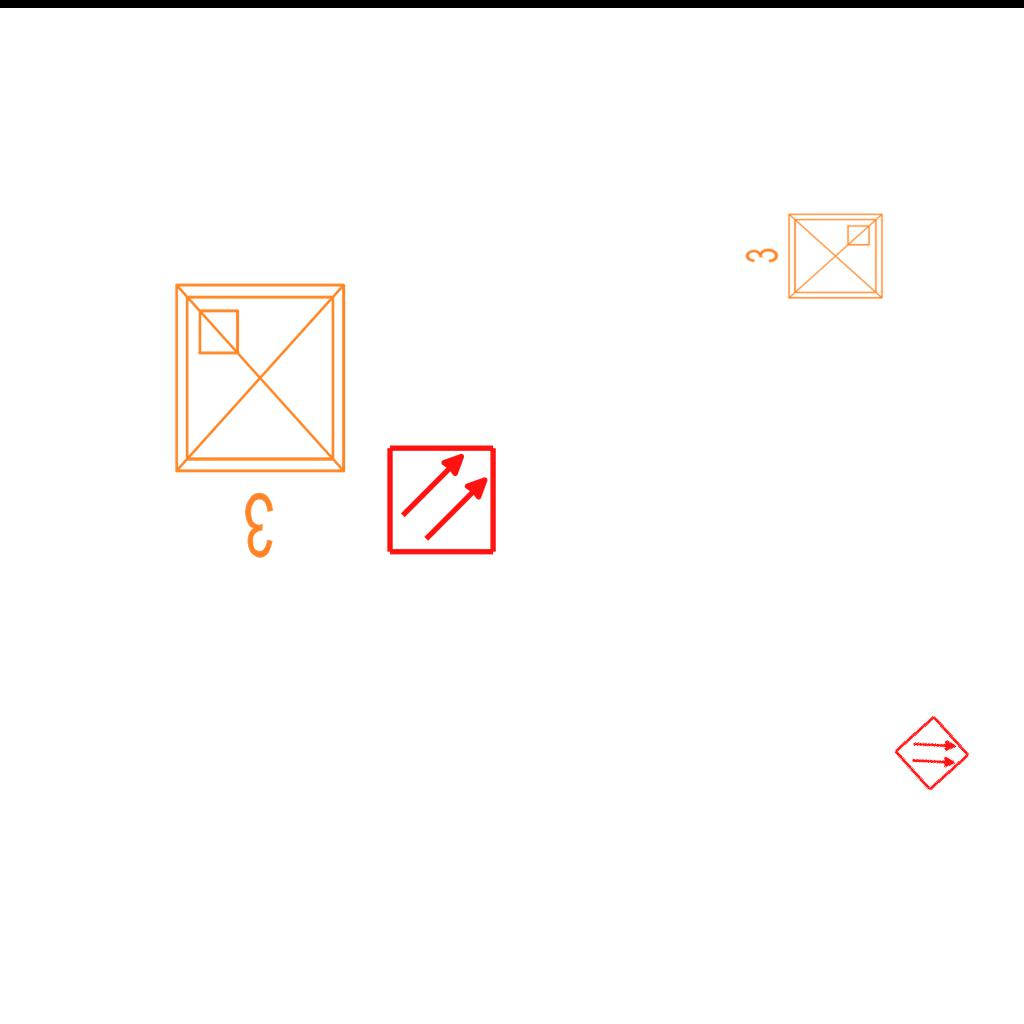Einbaudownlights_LED_Konferenzraeume: (160, 269, 368, 569), (740, 206, 890, 310)
RMO_Rauchmelder_optischer: (385, 443, 498, 556), (892, 713, 972, 793)
